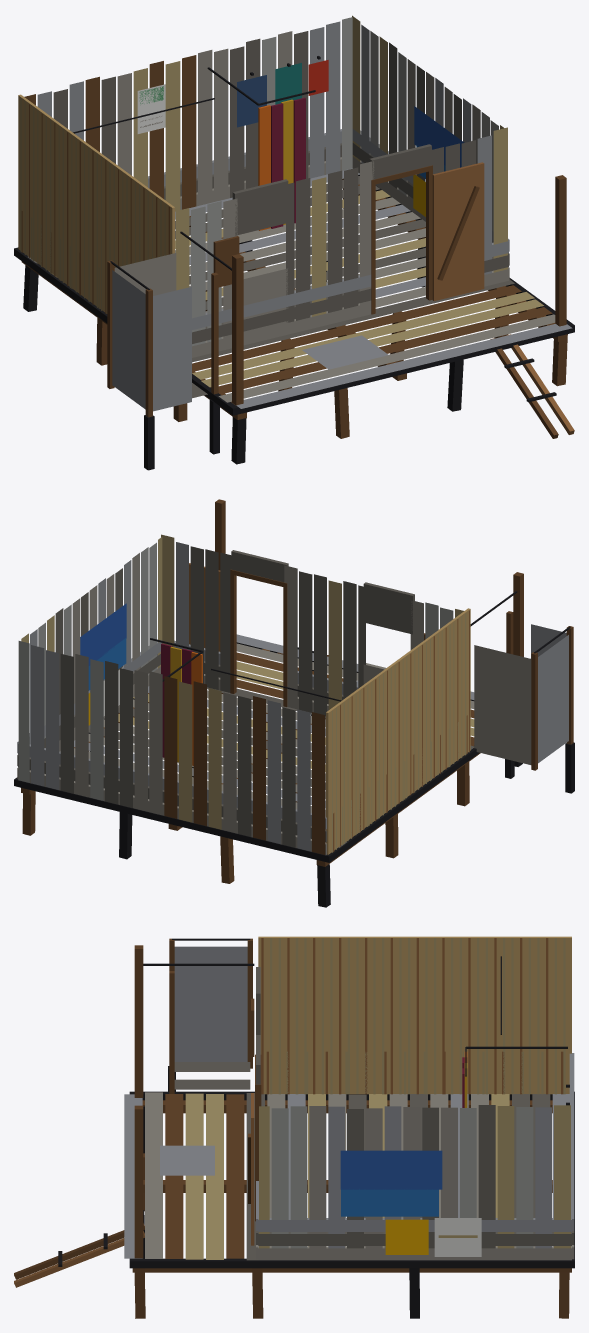
The model's file is building_makoko-room.glb.
3 views of the same model, one above another, from view 1: azimuth 30°, elevation 25°; view 2: azimuth 150°, elevation 25°; view 3: azimuth 270°, elevation 25° (orthographic). The views are drawn at different scales.
Parts seen in each view (by area): view 1: body, wall_front_full, wall_back_full, wall_left_full, wall_right_full, wall_front_low, wall_left_low, wall_right_low, wall_back_low; view 2: wall_back_full, body, wall_front_full, wall_left_full, wall_right_full, wall_left_low, wall_back_low, wall_right_low, wall_front_low; view 3: body, wall_left_full, wall_right_full, wall_right_low, wall_left_low, wall_front_full, wall_back_low.
Boxes of the visible parts, bbox=[...] form: body: bbox=[14, 67, 574, 470]; wall_front_full: bbox=[175, 127, 507, 346]; wall_back_full: bbox=[24, 17, 352, 211]; wall_left_full: bbox=[18, 94, 174, 313]; wall_right_full: bbox=[352, 15, 504, 231]; wall_front_low: bbox=[192, 165, 508, 357]; wall_left_low: bbox=[18, 208, 107, 313]; wall_right_low: bbox=[352, 129, 509, 279]; wall_back_low: bbox=[148, 129, 341, 209]; wall_back_full: bbox=[18, 641, 325, 854]; body: bbox=[14, 499, 574, 907]; wall_front_full: bbox=[161, 534, 463, 716]; wall_left_full: bbox=[326, 608, 470, 854]; wall_right_full: bbox=[21, 537, 162, 740]; wall_left_low: bbox=[326, 713, 470, 854]; wall_back_low: bbox=[18, 743, 326, 855]; wall_right_low: bbox=[17, 640, 162, 778]; wall_front_low: bbox=[174, 569, 358, 712]; body: bbox=[14, 938, 574, 1318]; wall_left_full: bbox=[258, 936, 571, 1094]; wall_right_full: bbox=[259, 1105, 570, 1256]; wall_right_low: bbox=[258, 1218, 571, 1260]; wall_left_low: bbox=[263, 1051, 568, 1094]; wall_front_full: bbox=[248, 967, 261, 1245]; wall_back_low: bbox=[569, 1053, 574, 1259].
Size of the model in its own units: 6.11 by 3.06 by 7.15.
